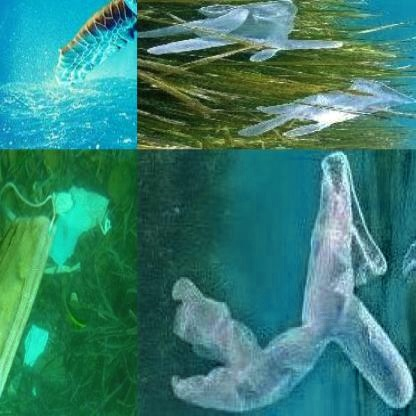Mask: (0, 170, 89, 415)
glove: (167, 151, 413, 414), (138, 0, 342, 64), (241, 75, 414, 139)
